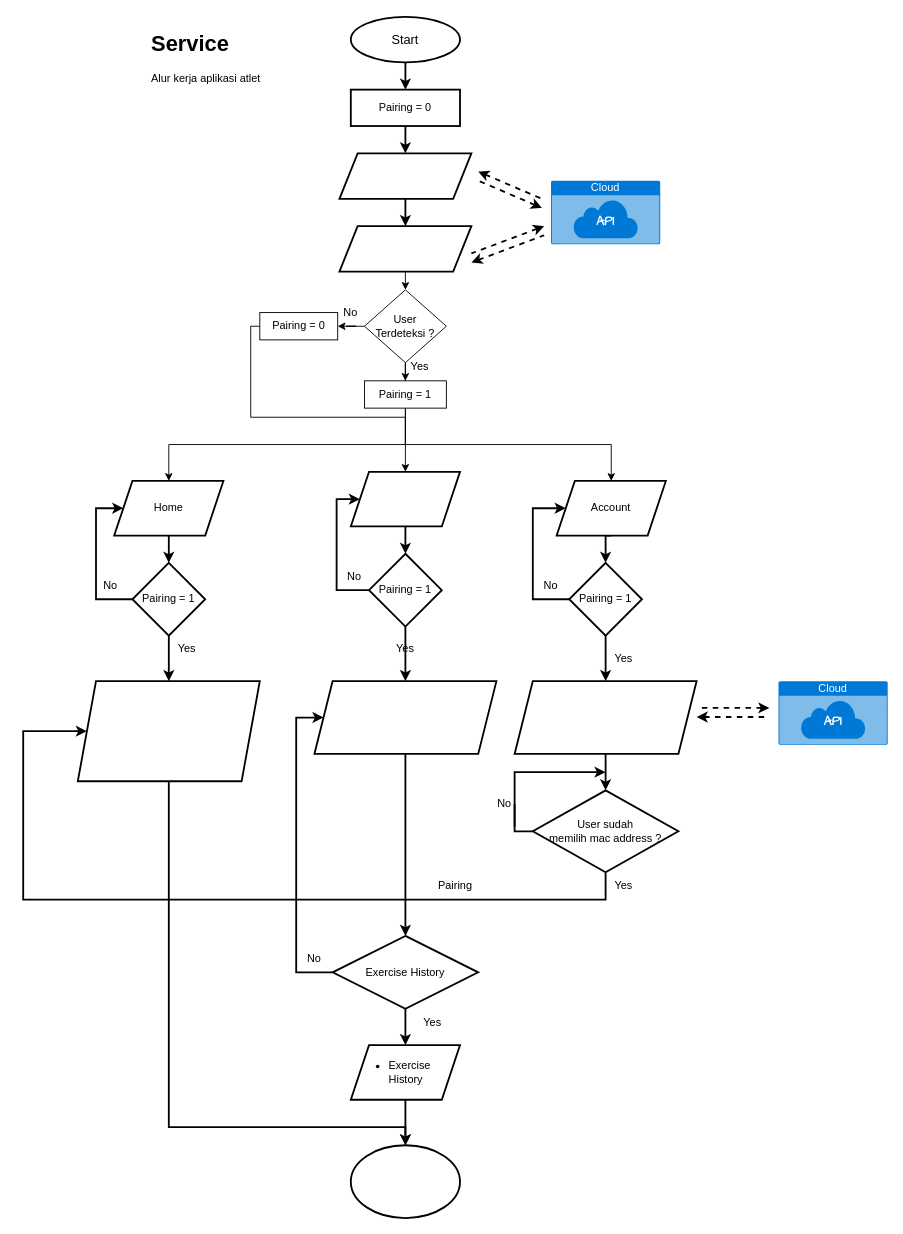
The diagram is 903 pixels wide and 1234 high, and some of its shapes have lost their labels. Each missing label, with the centre of its shape:
END: point (404, 1181)
Exercise: point (404, 498)
Heart Rate Vo2Max Oxygen Saturation Grafik Exercise Aktif: point (405, 717)
Heart Rate Vo2Max Oxygen Saturation Riwayat Exercise Resting Heart Rate: point (168, 731)
Profile Atlit: point (605, 717)
User Authentication: point (405, 248)
User Login: point (405, 175)
